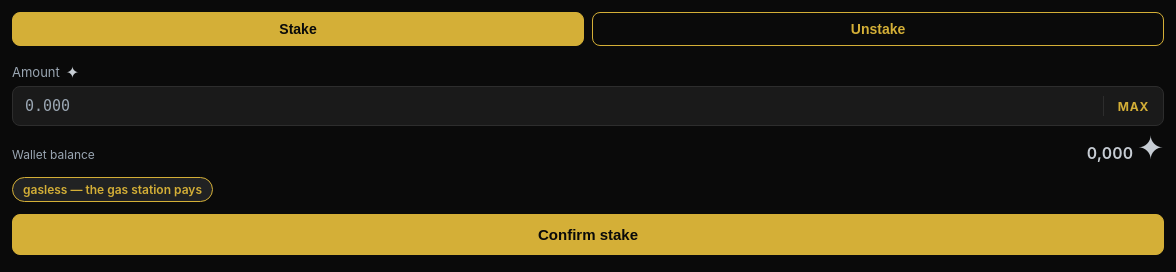
StakeUnstakeUrStoaModal — last-staker floor (REQ-21) › unstake max is the full userStaked when the user is NOT the last staker
The image size is (1176, 272).
Click the button with test id "stake-mode-unstake".
click(878, 29)  # box x1=592 y1=12 x2=1164 y2=46
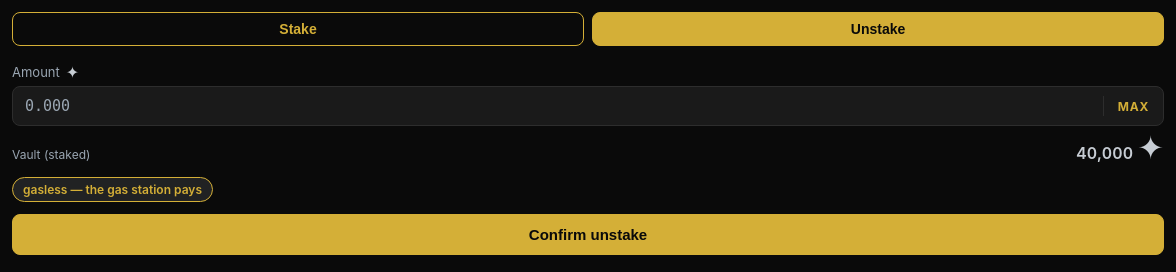
Click the button with test id "stake-max".
click(1133, 106)  # box x1=1104 y1=87 x2=1163 y2=125
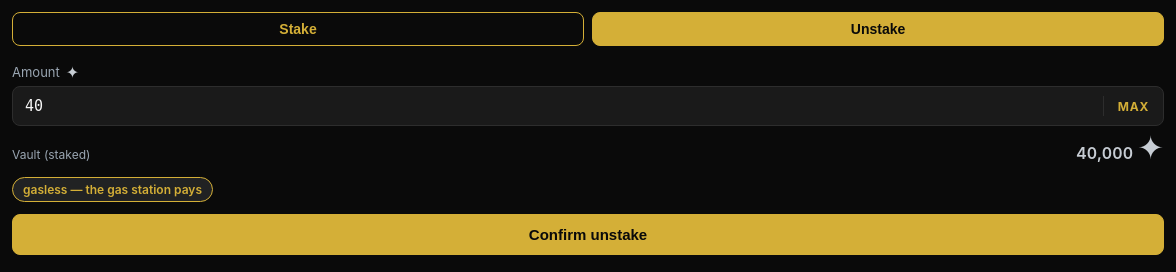
Check: the field with test id "stake-amount" holds "40", box x1=13 y1=87 x2=1103 y2=125
